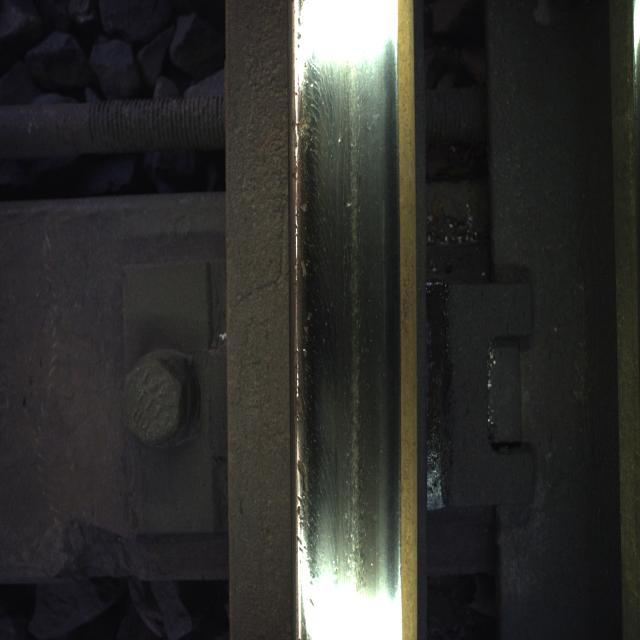scar: (288, 24, 374, 580)
